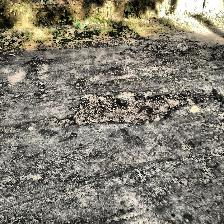pothole: (70, 90, 198, 128), (25, 57, 55, 65)
